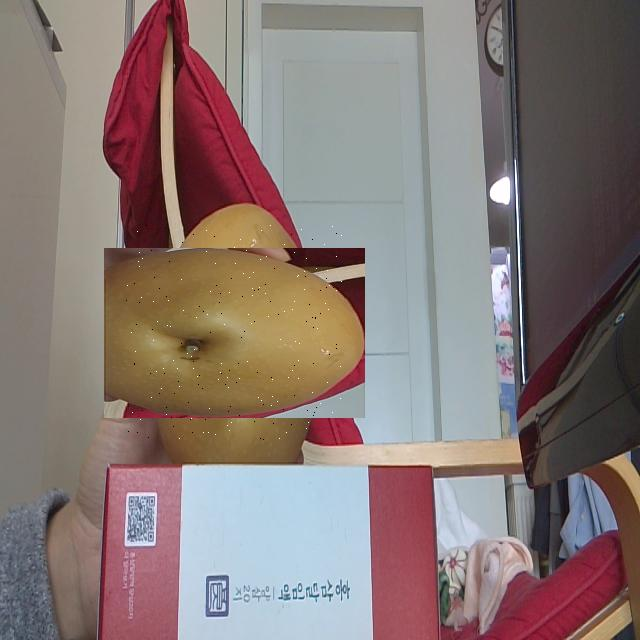pear: (126, 225, 342, 441)
